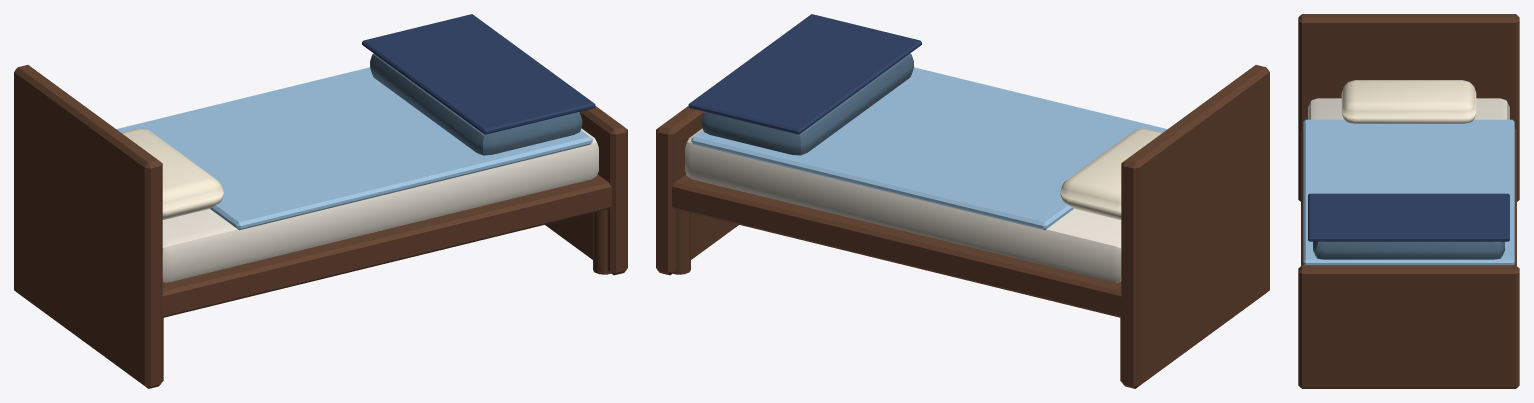
File: bed_single.glb
3 renders of one model, left to right at view 1: azimuth 30°, elevation 25°; view 2: azimuth 150°, elevation 25°; view 3: azimuth 270°, elevation 25°, orthographic. The views are drawn at different scales.
Visible parts, largest first — view 1: bed_single; view 2: bed_single; view 3: bed_single.
Boxes of the visible parts, x1,y1,x2,y2 form: bed_single: [14, 14, 627, 388]; bed_single: [656, 14, 1269, 388]; bed_single: [1298, 14, 1519, 388].
Bounding box in the file's own units: 1.9 × 0.85 × 0.92.
